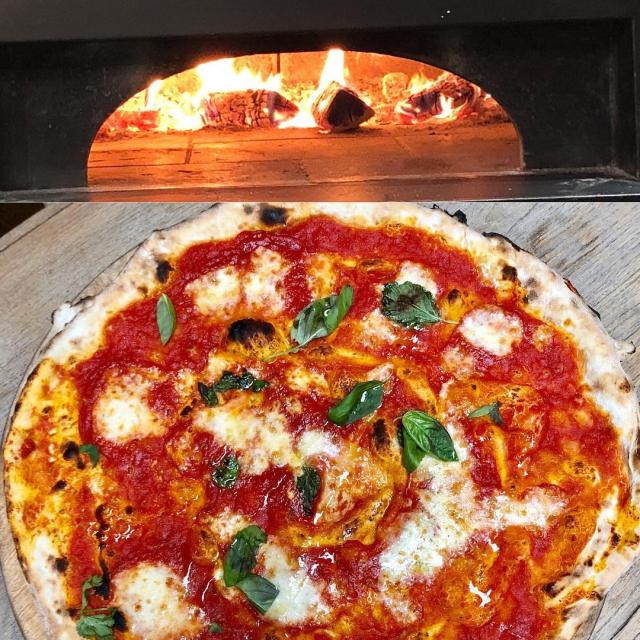basil: (223, 525, 287, 616), (280, 282, 358, 352), (394, 407, 463, 475), (380, 276, 458, 332), (193, 368, 270, 410), (324, 378, 389, 426), (75, 573, 121, 640), (290, 462, 323, 518), (151, 290, 178, 348), (209, 450, 240, 490), (468, 399, 504, 427), (76, 437, 104, 471), (202, 618, 224, 637)
pizza: (4, 204, 640, 640)
